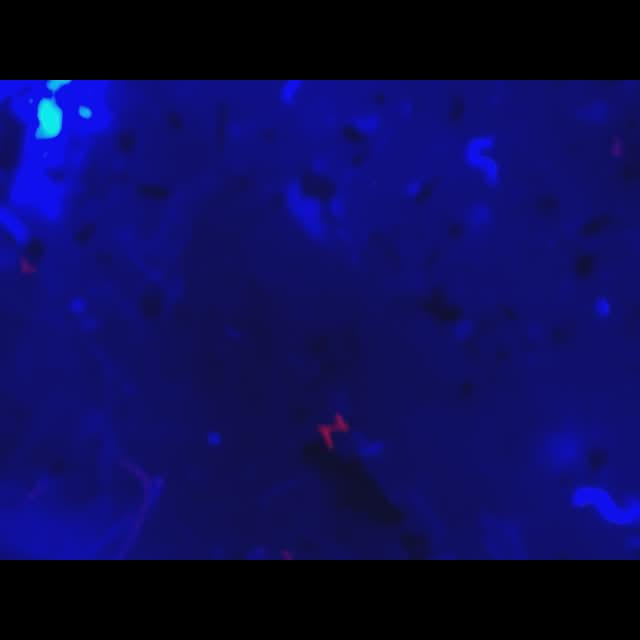Fragment: (317, 413, 349, 450)
